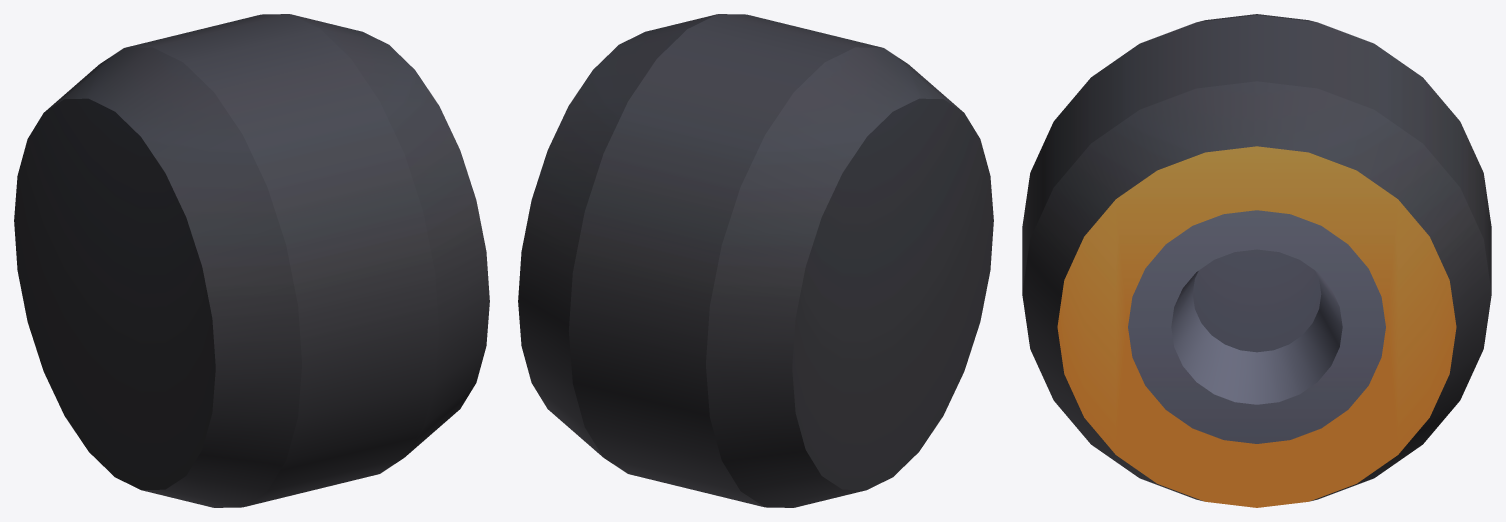
File: kenney-car-wheel-racing.glb
3 renders of one model, left to right at view 1: azimuth 30°, elevation 25°; view 2: azimuth 150°, elevation 25°; view 3: azimuth 270°, elevation 25°, orthographic.
Parts seen in each view (by area): view 1: wheel-racing; view 2: wheel-racing; view 3: wheel-racing.
Boxes of the visible parts, box(x1,y1,x2,y2) form: wheel-racing: box(14, 14, 489, 507); wheel-racing: box(518, 14, 993, 507); wheel-racing: box(1022, 14, 1491, 507).
Size of the model in its own units: 0.4 by 0.6 by 0.6.
1 material, 1 textured.
